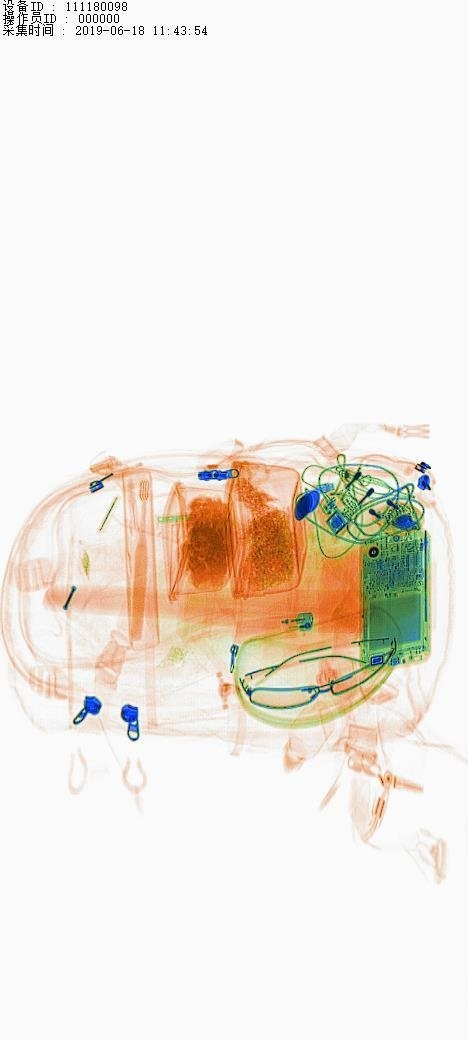NonmetallicFire: (233, 603, 331, 652)
